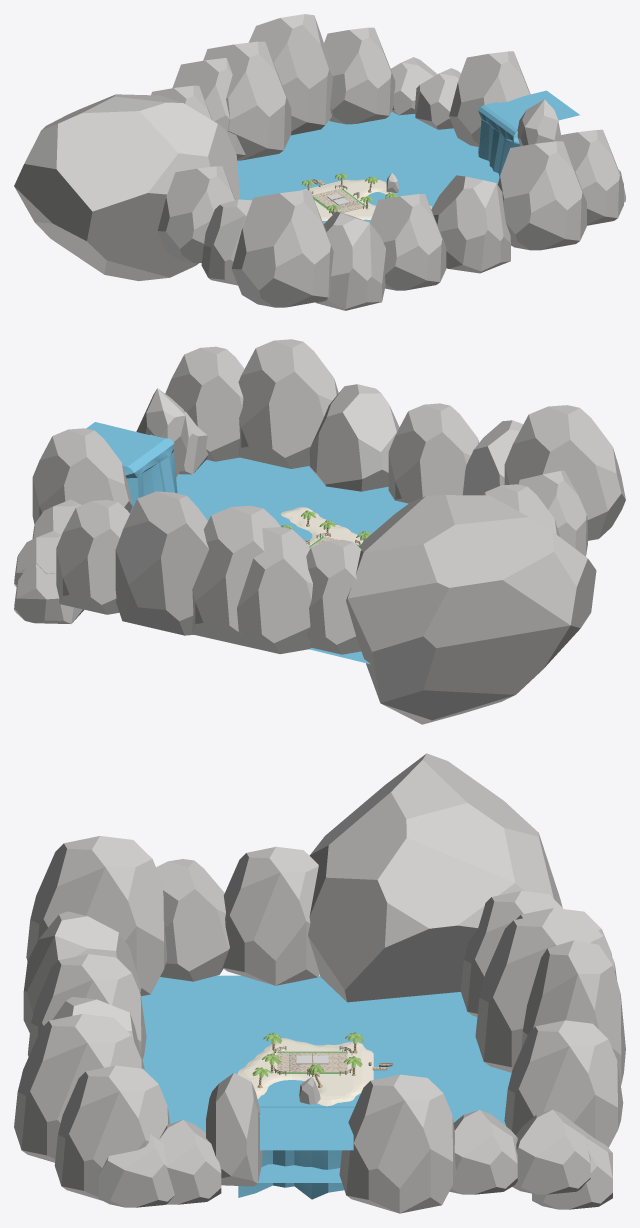
3 renders of one model, top to bottom at view 1: azimuth 30°, elevation 25°; view 2: azimuth 150°, elevation 25°; view 3: azimuth 270°, elevation 25°, orthographic. The views are drawn at different scales.
Visible parts, largest first — view 1: Shared_Prop_Boulder_2.006, Hilly_Terrain_Water_Flat, Shared_Prop_Boulder_2.010, Shared_Prop_Boulder_2.015, Shared_Prop_Boulder_2.003, Shared_Prop_Boulder_2.002, Shared_Prop_Boulder_2.014, Shared_Prop_Boulder_2.012, Shared_Prop_Boulder_2.001, Shared_Prop_Boulder_2.011, Shared_Prop_Boulder_2.008, Shared_Prop_Boulder_2 (+9 smaller); view 2: Shared_Prop_Boulder_2.006, Shared_Prop_Boulder_2.002, Hilly_Terrain_Water_Flat, Shared_Prop_Boulder_2.015, Shared_Prop_Boulder_2.010, Shared_Prop_Boulder_2.005, Shared_Prop_Boulder_2.014, Shared_Prop_Boulder_2.003, Shared_Prop_Boulder_2.012, Shared_Prop_Boulder_2.001, Shared_Prop_Boulder_2, Shared_Prop_Boulder_2.016 (+11 smaller); view 3: Shared_Prop_Boulder_2.006, Hilly_Terrain_Water_Flat, Shared_Prop_Boulder_2, Shared_Prop_Boulder_2.010, Shared_Prop_Boulder_2.008, Shared_Prop_Boulder_2.001, Shared_Prop_Boulder_2.016, Shared_Prop_Boulder_2.015, Shared_Prop_Boulder_2.003, Shared_Prop_Boulder_2.002, Shared_Prop_Boulder_2.009, Hilly_Terrain_Water_Flat.001 (+11 smaller).
Part boxes in pixels (box(x1,y1,x2,y2)): Shared_Prop_Boulder_2.006: box(14, 94, 240, 281); Hilly_Terrain_Water_Flat: box(237, 111, 499, 223); Shared_Prop_Boulder_2.010: box(231, 190, 333, 307); Shared_Prop_Boulder_2.015: box(497, 141, 586, 250); Shared_Prop_Boulder_2.003: box(203, 41, 291, 160); Shared_Prop_Boulder_2.002: box(248, 14, 333, 135); Shared_Prop_Boulder_2.014: box(431, 175, 510, 273); Shared_Prop_Boulder_2.012: box(370, 194, 446, 290); Shared_Prop_Boulder_2.001: box(324, 27, 395, 124); Shared_Prop_Boulder_2.011: box(315, 211, 385, 310); Shared_Prop_Boulder_2.008: box(157, 166, 235, 262); Shared_Prop_Boulder_2: box(449, 51, 530, 146); Shared_Prop_Boulder_2.006: box(346, 495, 596, 724); Shared_Prop_Boulder_2.002: box(115, 491, 208, 635); Hilly_Terrain_Water_Flat: box(176, 457, 408, 664); Shared_Prop_Boulder_2.015: box(238, 339, 338, 468); Shared_Prop_Boulder_2.010: box(504, 405, 625, 540); Shared_Prop_Boulder_2.005: box(237, 527, 312, 654); Shared_Prop_Boulder_2.014: box(309, 384, 399, 491); Shared_Prop_Boulder_2.003: box(192, 505, 280, 647); Shared_Prop_Boulder_2.012: box(388, 403, 478, 503); Shared_Prop_Boulder_2.001: box(56, 500, 129, 614); Shared_Prop_Boulder_2: box(32, 428, 132, 524); Shared_Prop_Boulder_2.016: box(165, 346, 244, 461); Shared_Prop_Boulder_2.006: box(308, 753, 562, 1002); Hilly_Terrain_Water_Flat: box(141, 975, 511, 1182); Shared_Prop_Boulder_2: box(339, 1074, 456, 1213); Shared_Prop_Boulder_2.010: box(26, 836, 166, 996); Shared_Prop_Boulder_2.008: box(223, 846, 319, 985); Shared_Prop_Boulder_2.001: box(504, 1020, 623, 1147); Shared_Prop_Boulder_2.016: box(54, 1065, 169, 1200); Shared_Prop_Boulder_2.015: box(14, 1014, 142, 1162); Shared_Prop_Boulder_2.003: box(475, 912, 616, 1072); Shared_Prop_Boulder_2.002: box(521, 940, 625, 1085); Shared_Prop_Boulder_2.009: box(156, 859, 229, 981); Hilly_Terrain_Water_Flat.001: box(238, 1106, 354, 1199).
Bounding box in the file's own units: 135 × 49 × 105.
